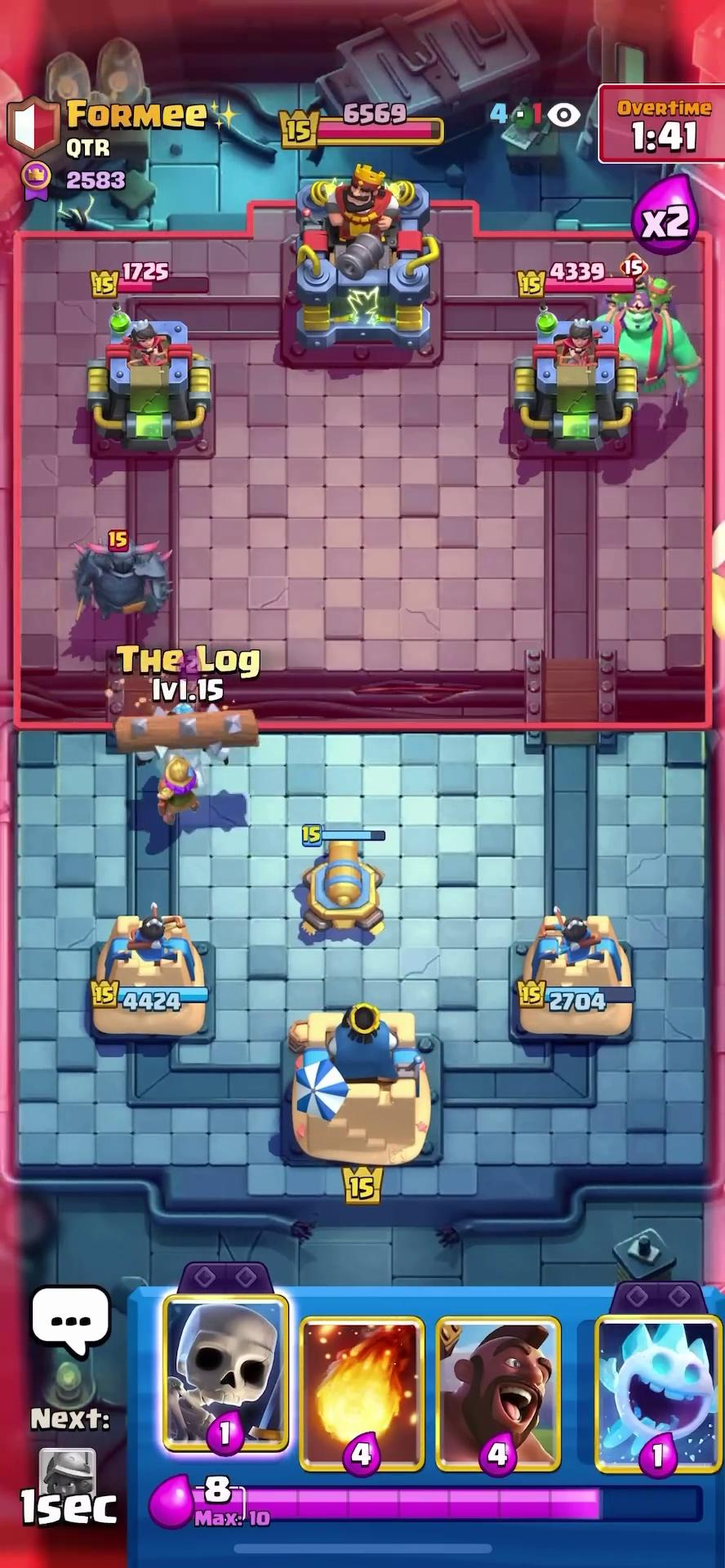cannon: (278, 827, 402, 933)
musketeer: (143, 741, 220, 817)
